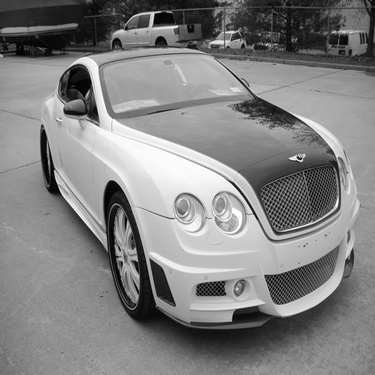car: (29, 44, 367, 338), (98, 12, 209, 58), (204, 26, 251, 55)
